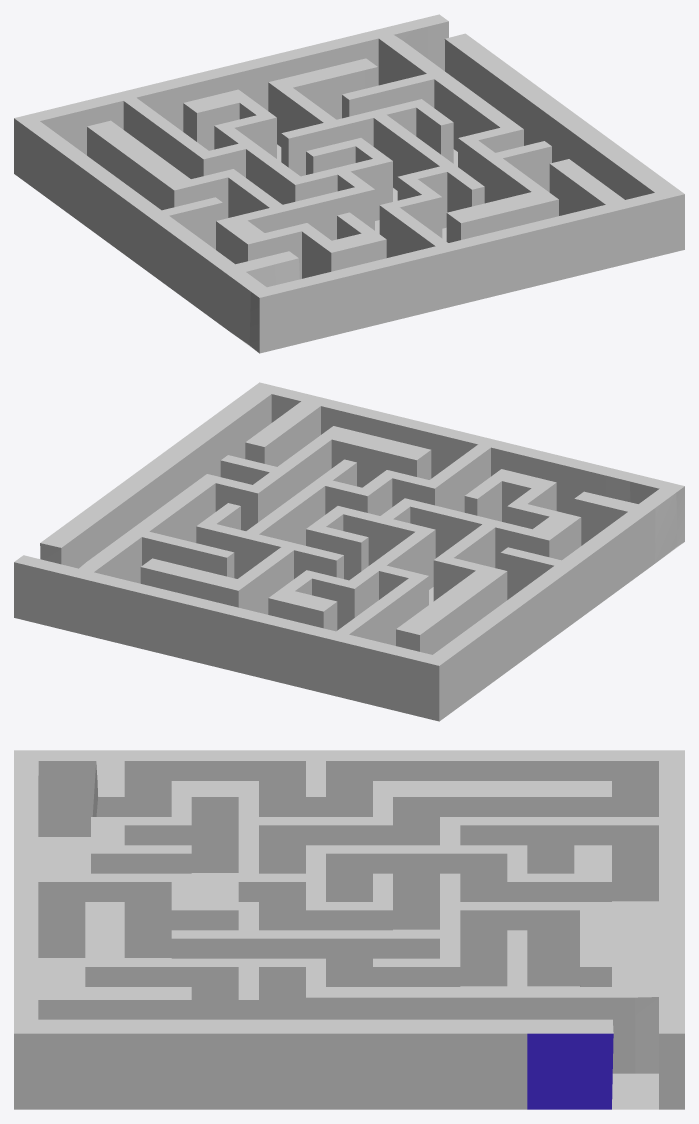
File: thinMaze.glb
3 views of the same model, one above another, from view 1: azimuth 30°, elevation 25°; view 2: azimuth 150°, elevation 25°; view 3: azimuth 270°, elevation 25° (orthographic). The views are drawn at different scales.
Parts seen in each view (by area): view 1: Plane; view 2: Plane; view 3: Plane.
Boxes of the visible parts, bbox=[...] form: Plane: bbox=[14, 14, 684, 353]; Plane: bbox=[14, 382, 684, 721]; Plane: bbox=[14, 750, 684, 1109].
Size of the model in its own units: 90.52 by 11.28 by 90.24.
